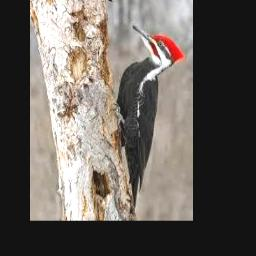Woodpecker: (116, 24, 185, 210)
